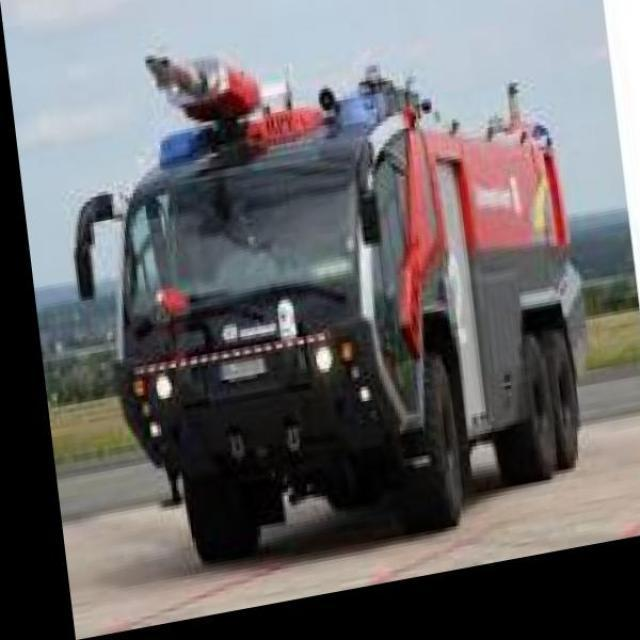emergency: (71, 50, 588, 564)
